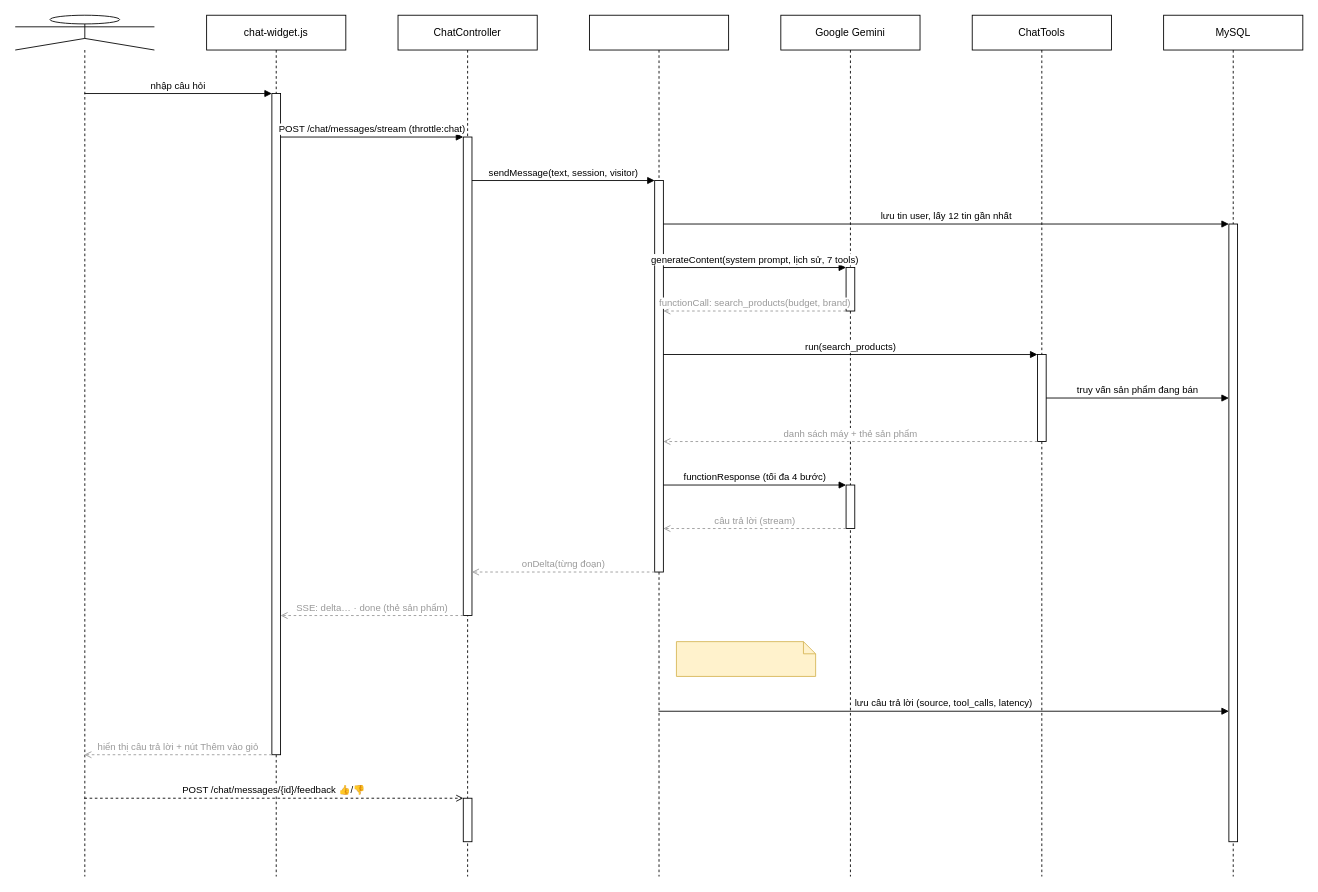
The diagram is 1318 pixels wide and 892 high, and some of its shapes have lost their labels. Each missing label, with the box of its shape:
ChatService: (589, 14, 729, 877)
Gemini lỗi / hết hạn mức → model dự phòng → trả lời offline: (676, 641, 816, 676)
Khách: (14, 14, 154, 877)
